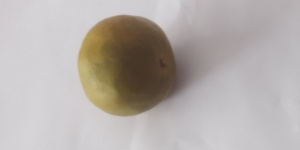BAD: (77, 13, 181, 118)
